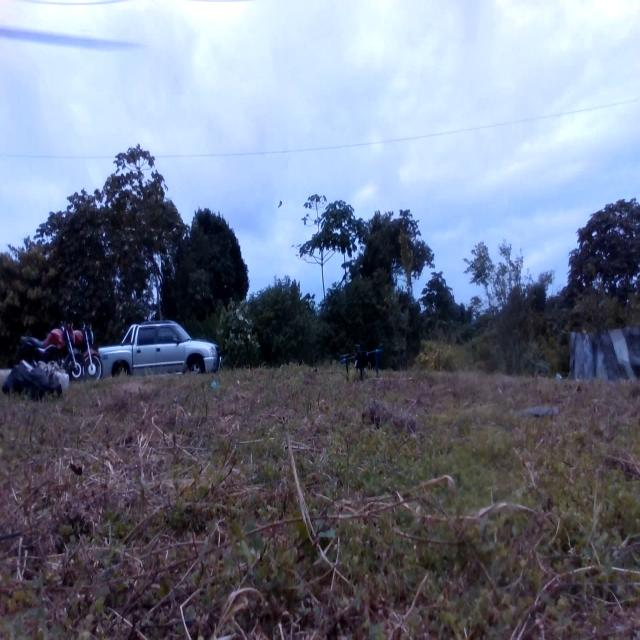-uav-: (338, 342, 389, 390)
